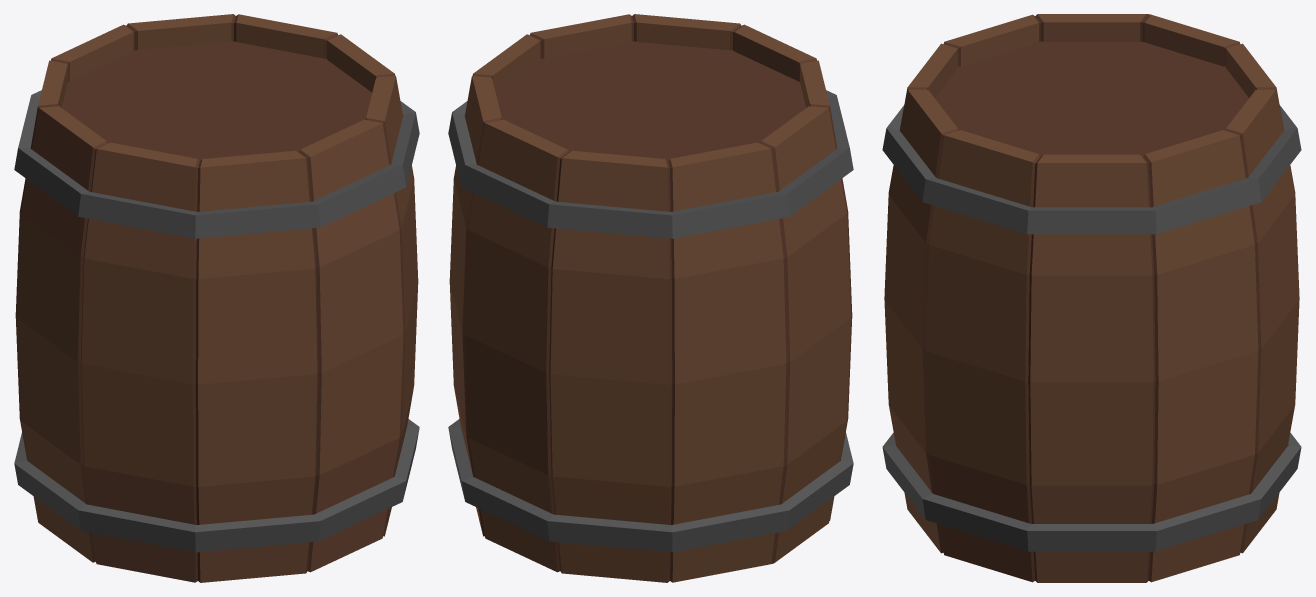
The model's file is Barrel.fbx.
3 views of the same model, side by side, from view 1: azimuth 30°, elevation 25°; view 2: azimuth 150°, elevation 25°; view 3: azimuth 270°, elevation 25° (orthographic).
Parts seen in each view (by area): view 1: Barrel; view 2: Barrel; view 3: Barrel.
Boxes of the visible parts, x1,y1,x2,y2 form: Barrel: (14, 14, 419, 582); Barrel: (448, 14, 853, 582); Barrel: (882, 14, 1301, 582).
Bounding box in the file's own units: 69.83 × 81.19 × 73.43.
